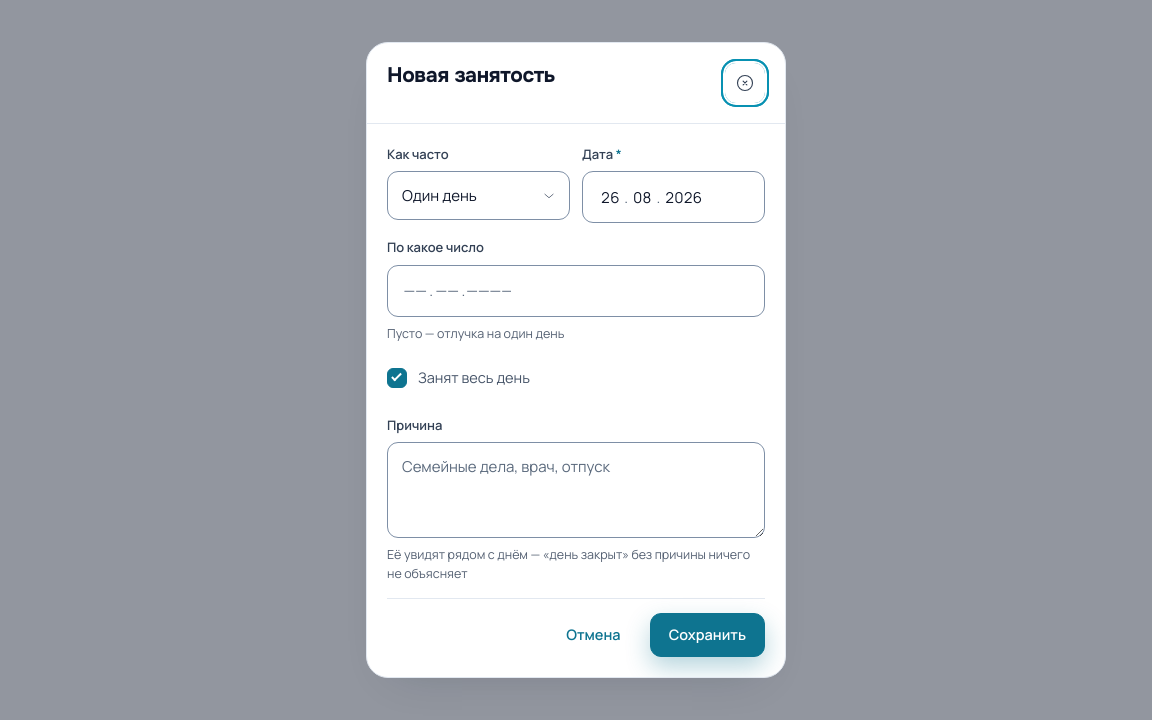
Окно занятости › повторяемая занятость меняет дату на день недели
Select "Каждую неделю" in the dropdown labelled "Как часто" at [478, 196], box [387,171,570,220]
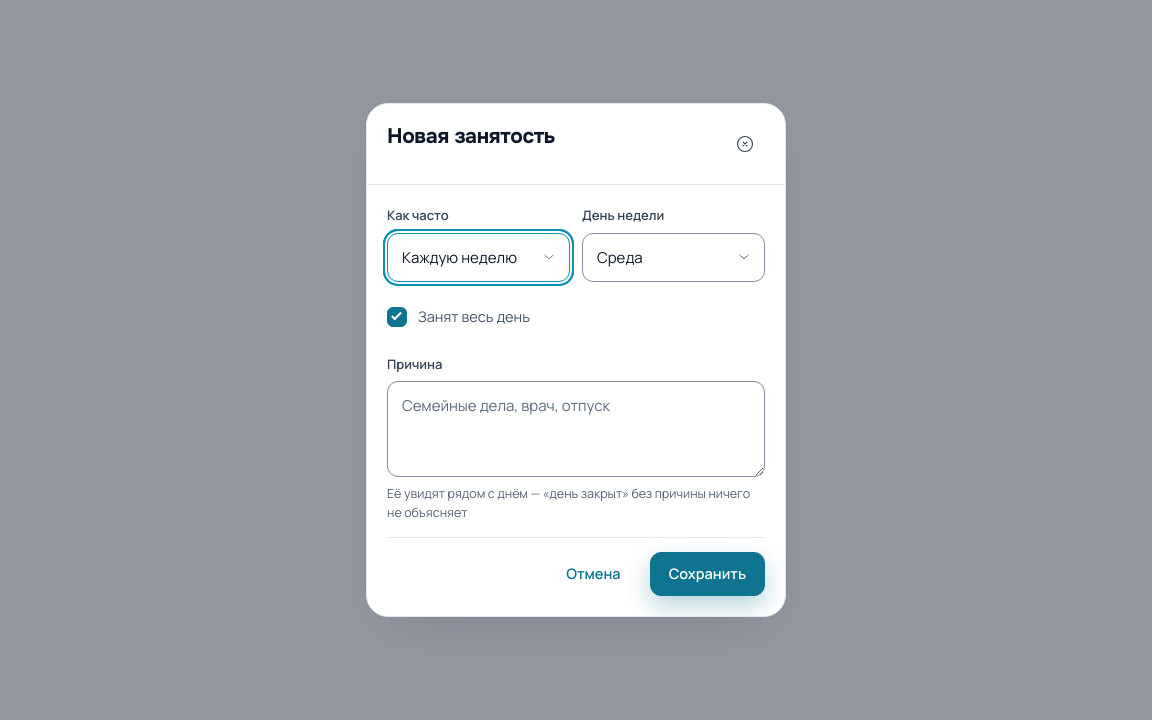
Check: the label "Дата" is gone
Check: the dropdown labelled "День недели" shows "Среда", box [582,233,765,282]
